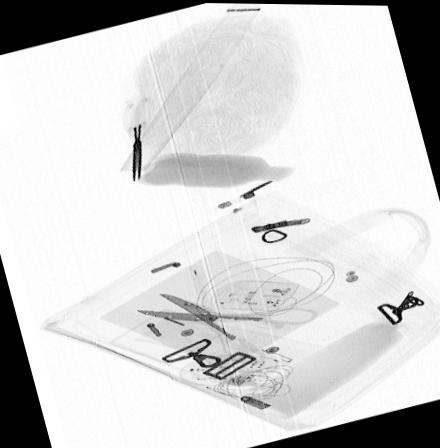Scissors: (131, 293, 320, 365), (118, 94, 163, 183)
